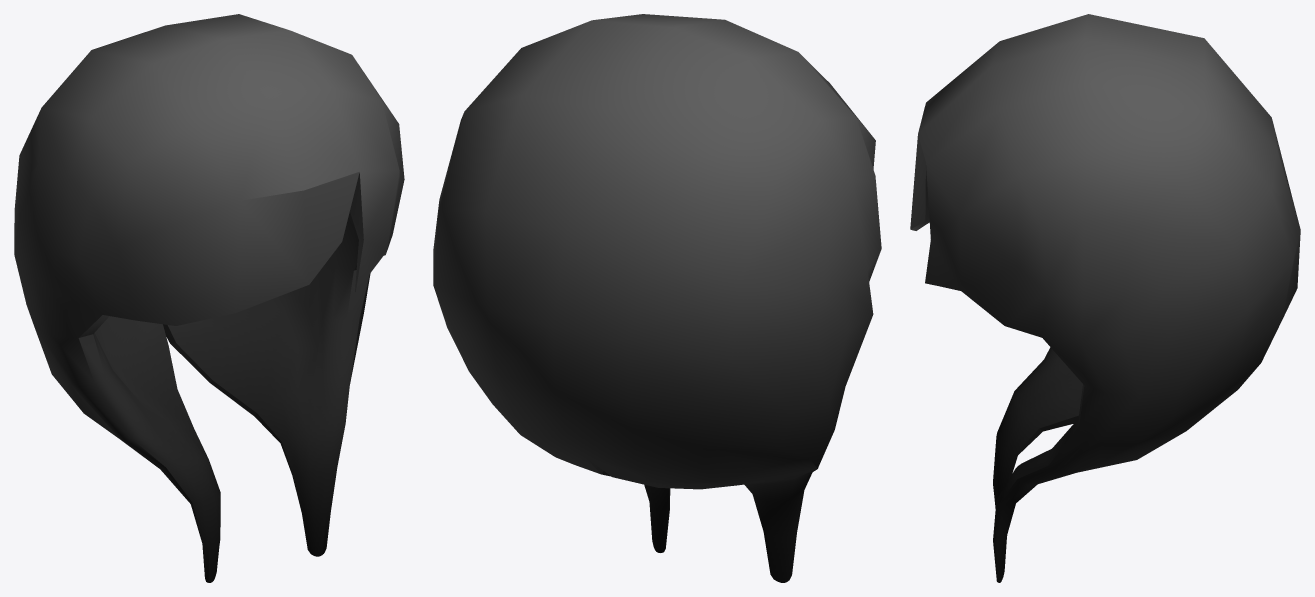
File: Rambut Cewek.fbx
3 renders of one model, left to right at view 1: azimuth 30°, elevation 25°; view 2: azimuth 150°, elevation 25°; view 3: azimuth 270°, elevation 25°, orthographic. The views are drawn at different scales.
Parts seen in each view (by area): view 1: Rambut Cewek; view 2: Rambut Cewek; view 3: Rambut Cewek.
Part boxes in pixels (x1,y1,x2,y2): Rambut Cewek: (14,14,404,582); Rambut Cewek: (433,14,881,582); Rambut Cewek: (910,14,1300,582).
Bounding box in the file's own units: 699 × 968 × 665.
Materials: 1 (1 with a texture image).
